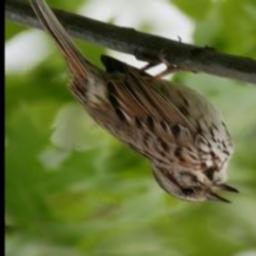Sparrow: (28, 0, 244, 208)
